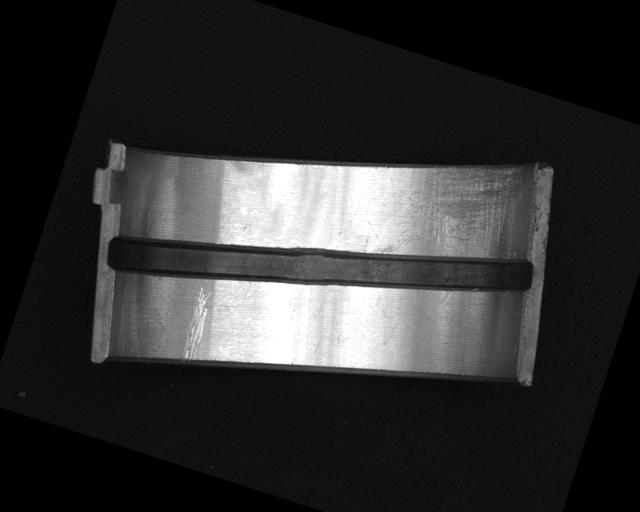gap: (101, 136, 536, 393)
nick: (174, 285, 218, 366)
scratch: (376, 133, 530, 290)
